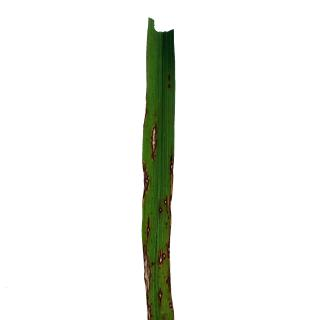Blast: (144, 248, 156, 296), (150, 119, 160, 161), (143, 160, 151, 200), (143, 217, 154, 243), (167, 154, 174, 182), (158, 249, 168, 268), (157, 286, 163, 309), (156, 204, 167, 216), (146, 302, 153, 320), (162, 196, 170, 208), (168, 72, 172, 91), (169, 300, 172, 310), (162, 314, 167, 320)
